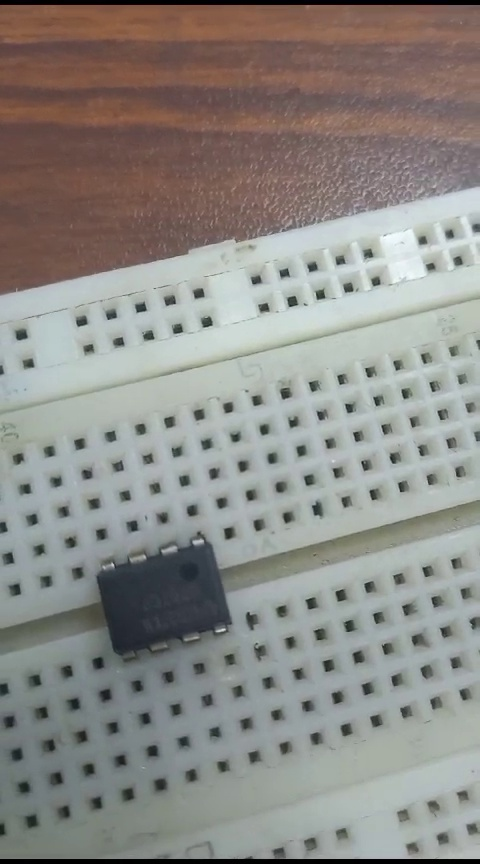IC: (87, 521, 244, 656)
